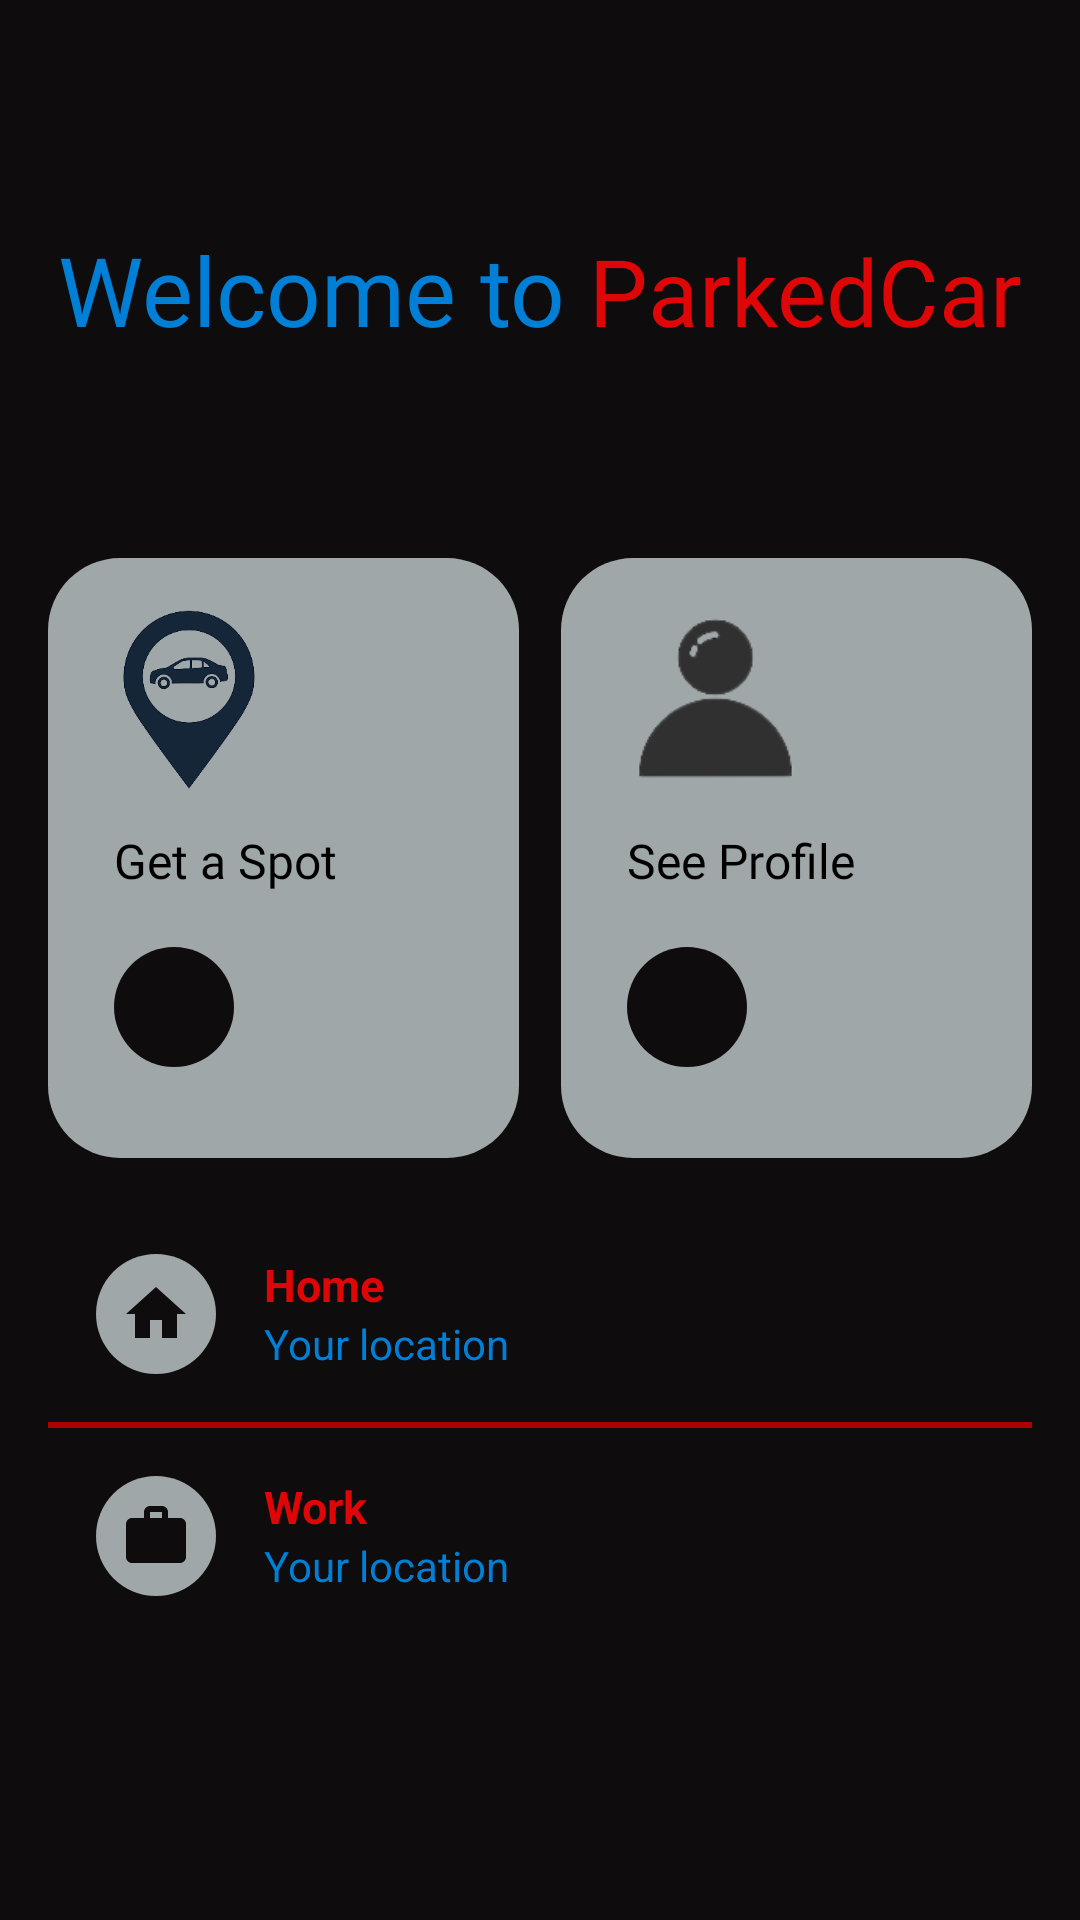

Where icons sit on this 1080*1920 app screen, as (x1=x1, y1=y1, x2=x2, y2=y2):
getspot: (x1=123, y1=611, x2=255, y2=788)
